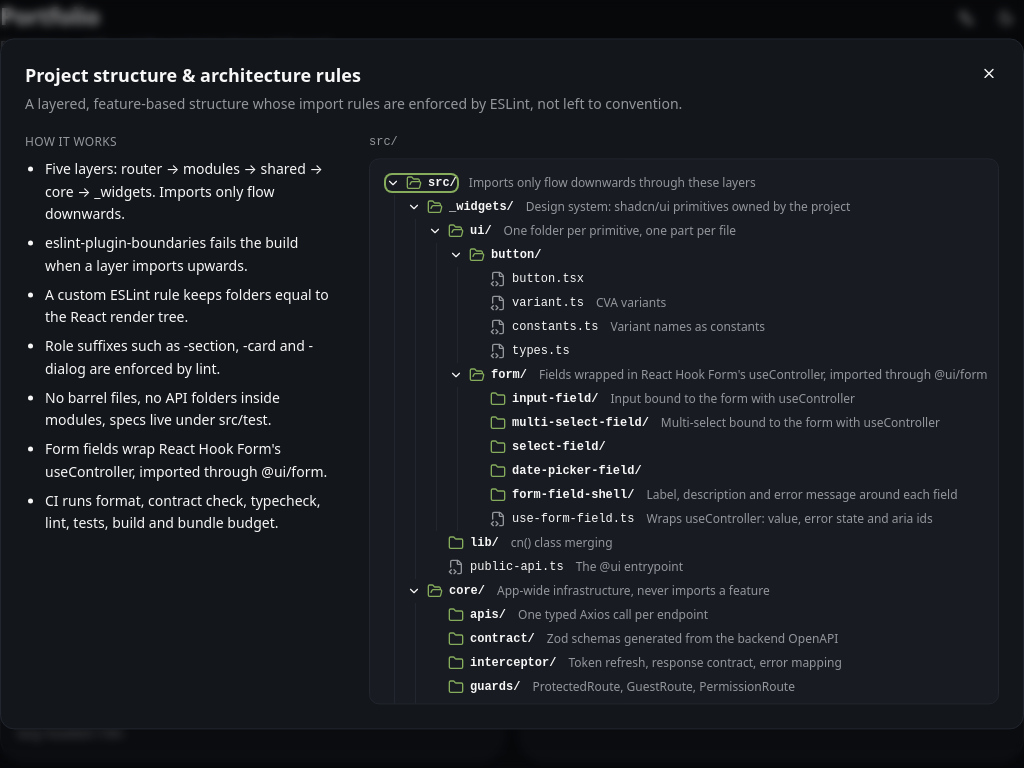
Test: PortfolioPage › shows the project structure as a folder tree without source files
The image size is (1024, 768).
Expected: the text "use-form-field.ts" is shown, [512, 511, 634, 527]
Click the button "src/": (421, 183) [386, 175, 457, 191]
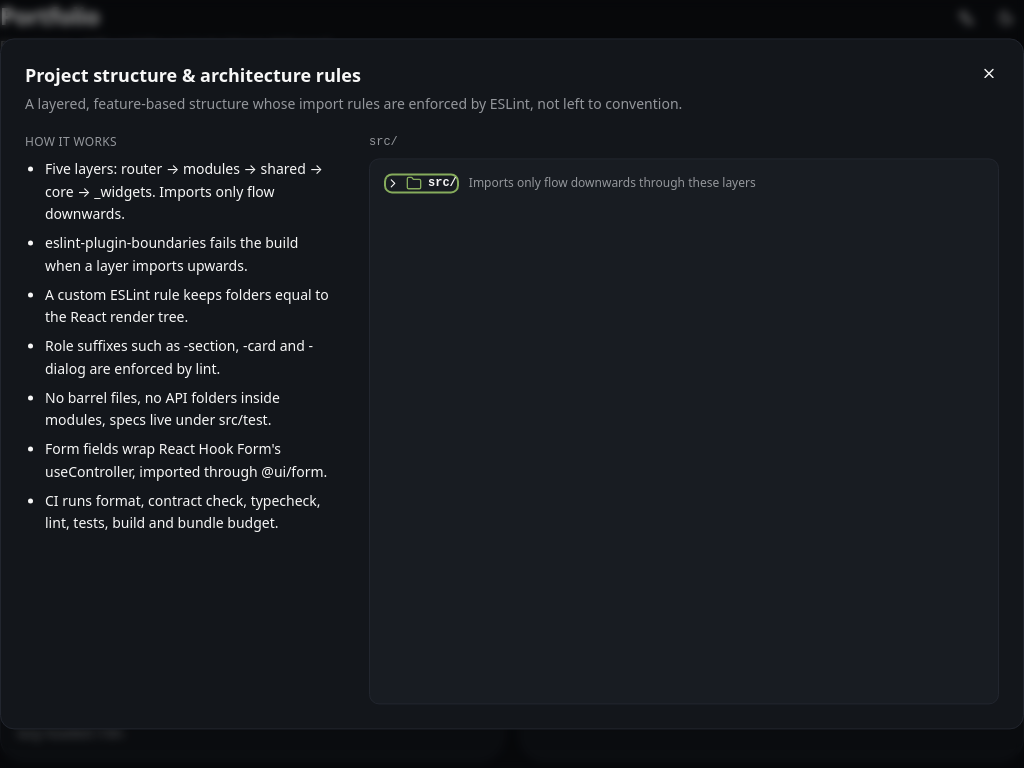
Result: the button "_widgets/" is gone
